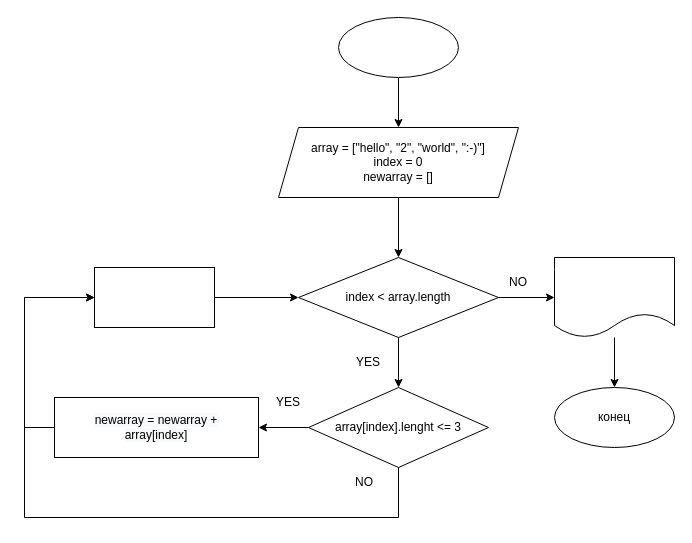
This 692x543 diagram has some shape labels left out. The shapes that lost their labels are listed below. From the top down, each one's centre as x and y in pixels, then its label:
At (x=398, y=47): "старт".
At (x=154, y=297): "index = index + 1".
At (x=614, y=297): "вывод newarray".
